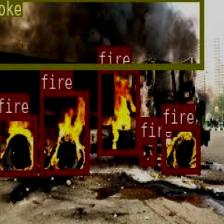fire: (39, 89, 88, 174), (97, 67, 139, 154), (0, 113, 37, 175), (161, 124, 199, 173), (138, 138, 156, 164)
smoke: (0, 0, 203, 67)
